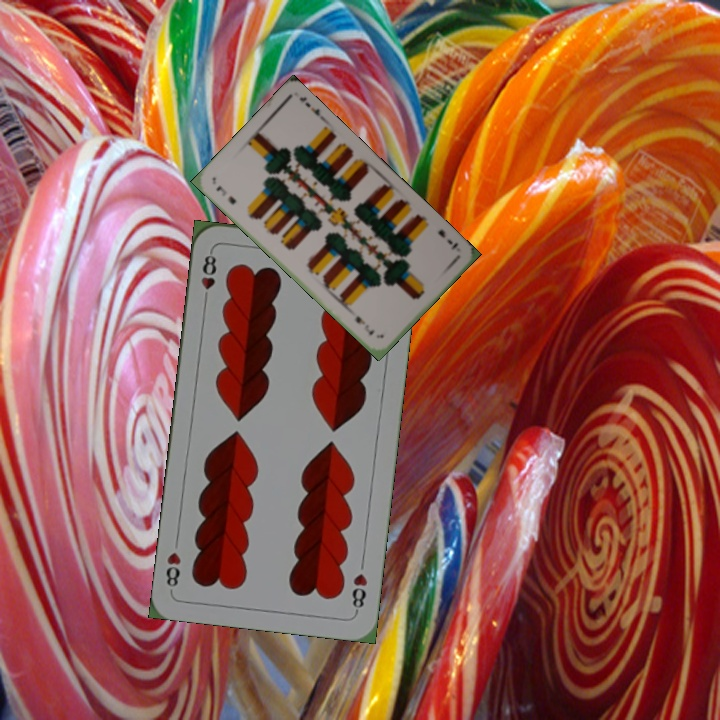E7: (434, 225, 461, 253), (212, 181, 239, 207)
H8: (197, 247, 219, 306), (348, 569, 370, 615)
